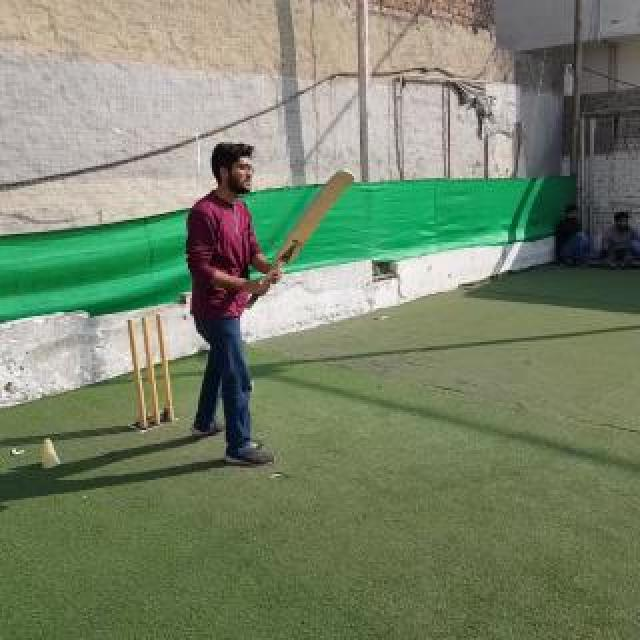bat: (244, 168, 356, 310)
